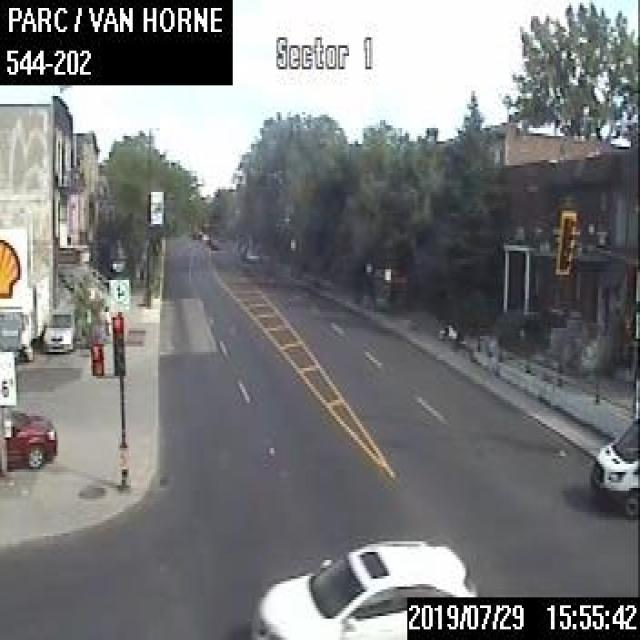vehicle: (247, 536, 478, 637), (587, 413, 638, 520), (4, 406, 56, 468), (41, 302, 77, 349)
